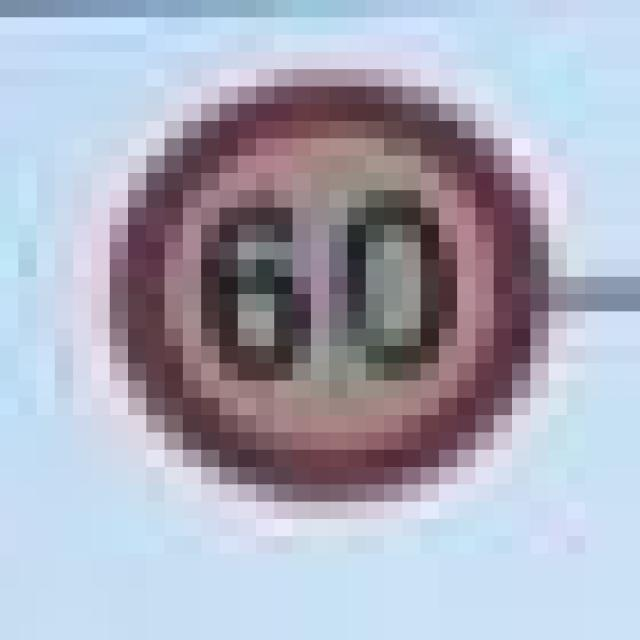speed_limit_60: (92, 52, 530, 484)
